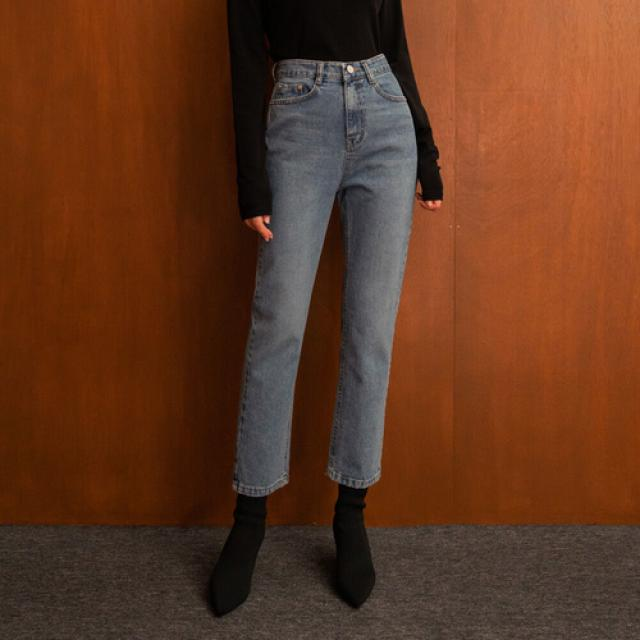Blouse_deep: (237, 60, 419, 492)
